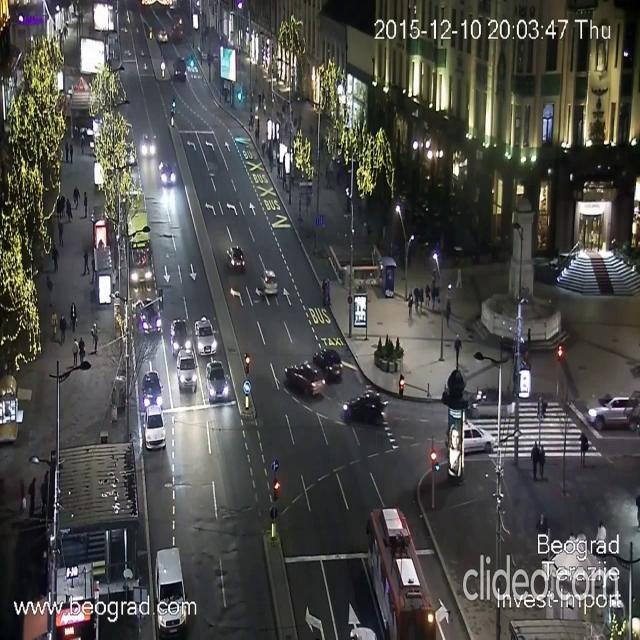bus: (365, 506, 437, 639), (123, 191, 153, 290)
car: (151, 549, 189, 627), (588, 394, 636, 434), (445, 418, 495, 453), (464, 388, 516, 414), (341, 391, 388, 419), (282, 367, 328, 394), (316, 347, 344, 381), (137, 292, 161, 330), (206, 359, 228, 400), (176, 351, 197, 393), (146, 404, 164, 452), (173, 321, 195, 356), (143, 374, 165, 408), (194, 323, 218, 353), (226, 244, 245, 272), (264, 270, 278, 295), (159, 168, 175, 189), (140, 136, 154, 159), (175, 55, 185, 81), (175, 20, 185, 40), (159, 26, 165, 44)
